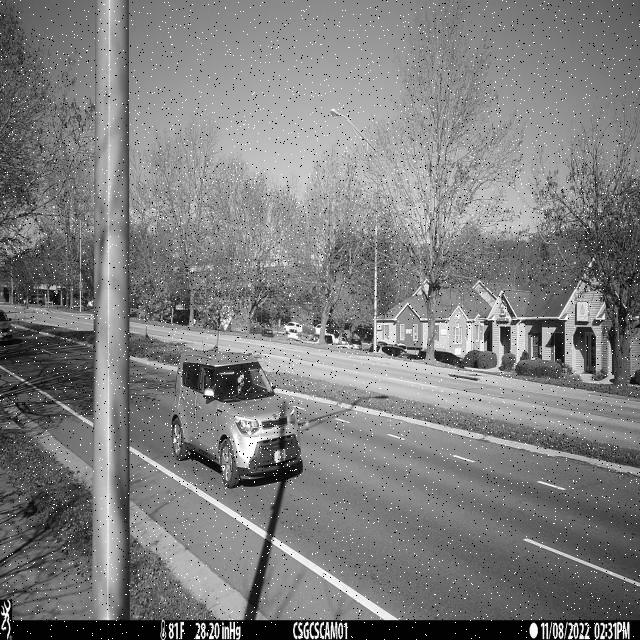Hatchback: (170, 349, 302, 489)
